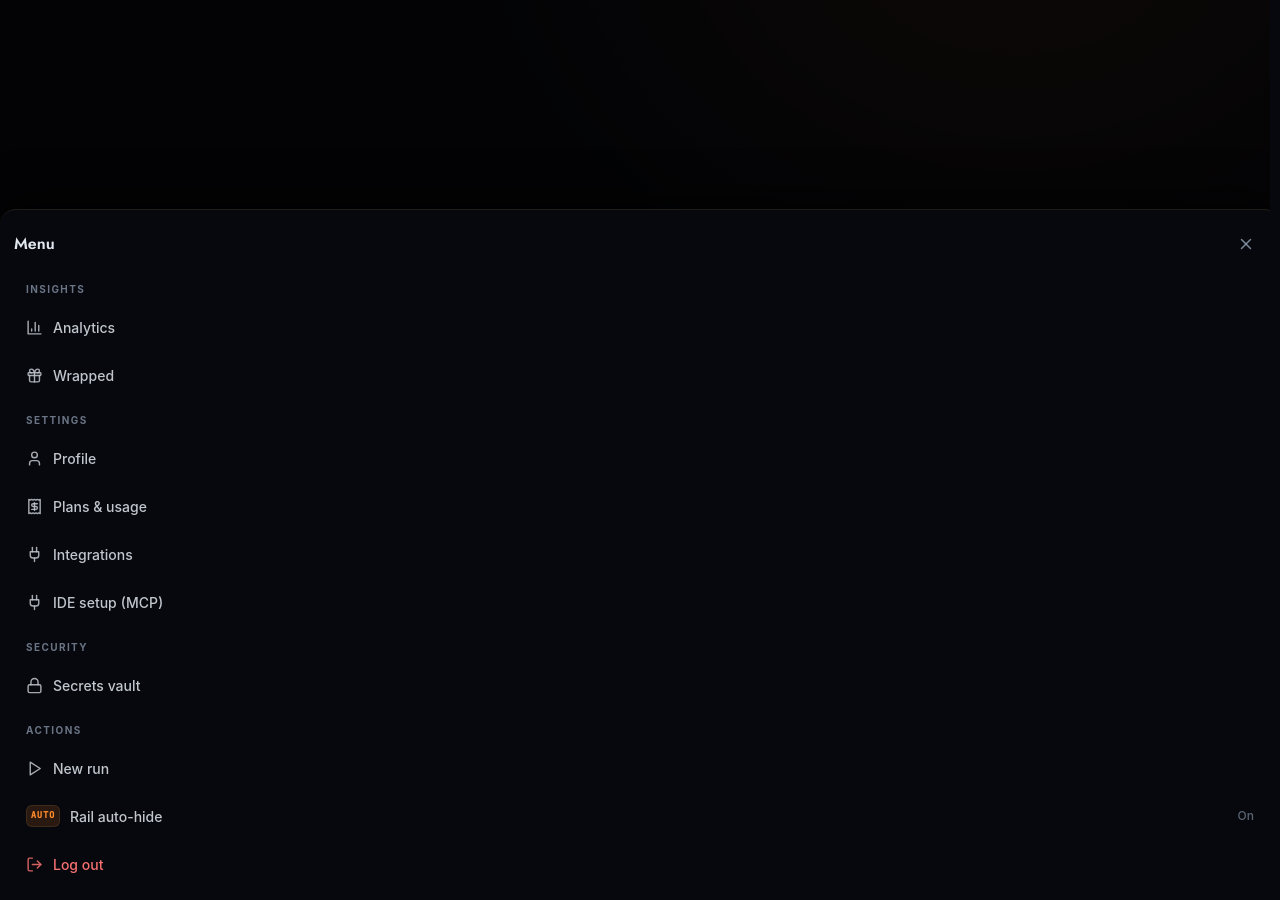
Test: MobileMenuSheet — menu (2026-11-25 mobile nav fix) › AUTO toggle flips the rail's localStorage key
Later steps or results of the test are not shown.
Click the button with test id "mobile-sheet-auto-toggle".
click(43, 816)  # box [12,792,1268,840]
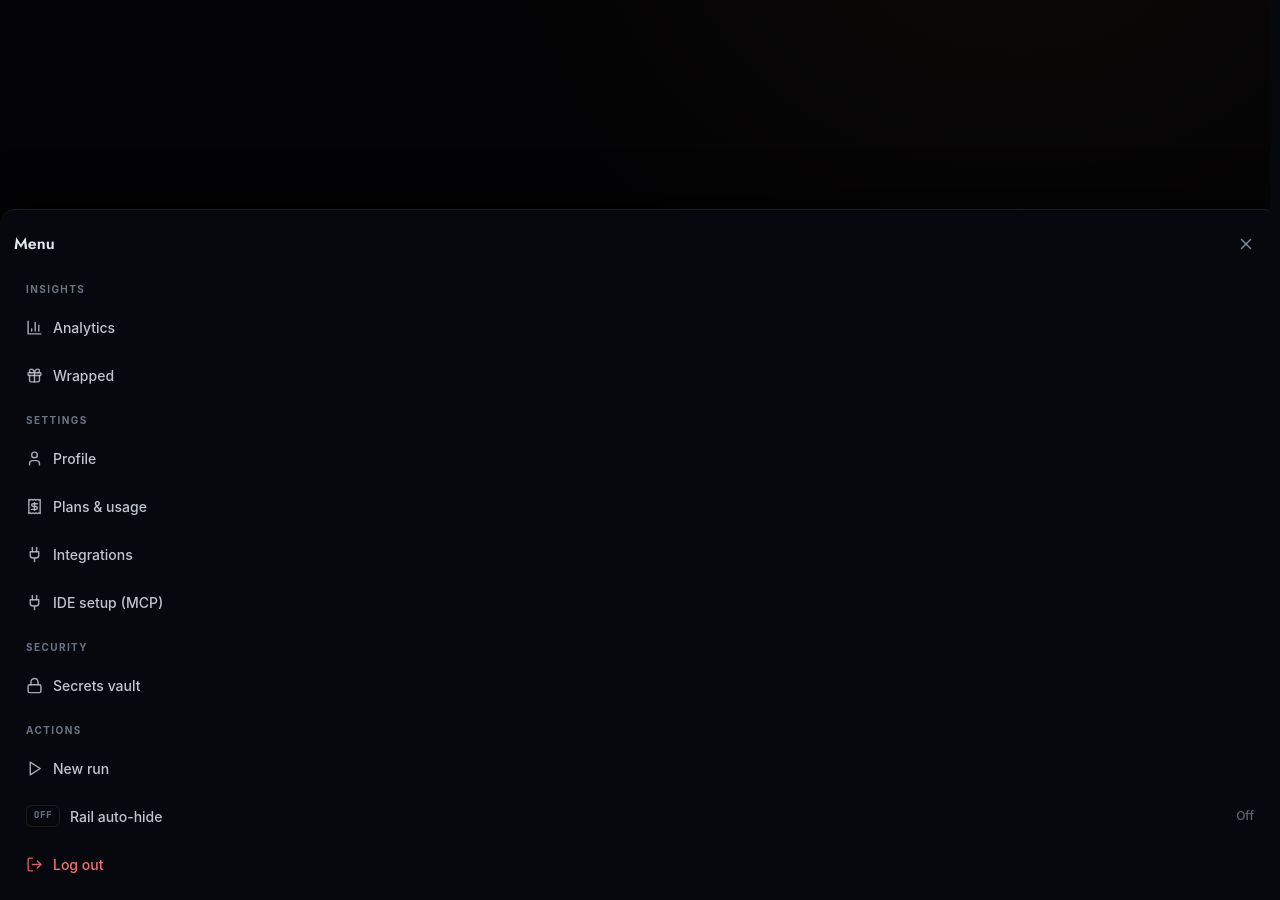
Result: the button with test id "mobile-sheet-auto-toggle" shows "OFF" at [12,792,1268,840]
